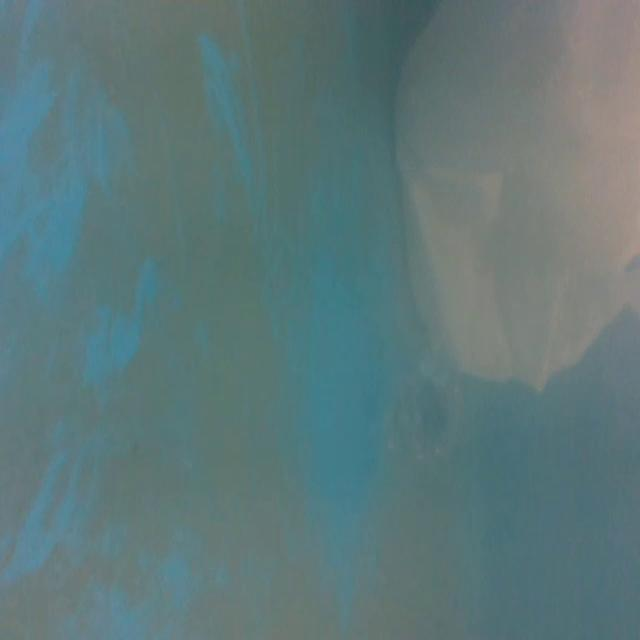plastic bags: (388, 0, 640, 403)
